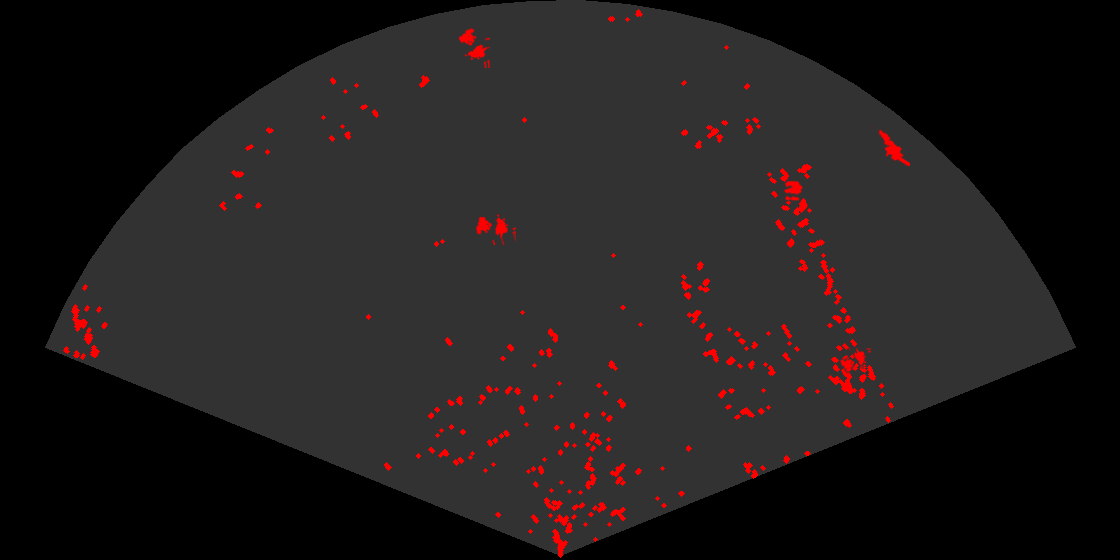ball: (783, 179, 805, 202)
cage: (457, 26, 490, 68), (475, 213, 516, 245), (838, 348, 871, 374)
frogman: (871, 126, 910, 166)
